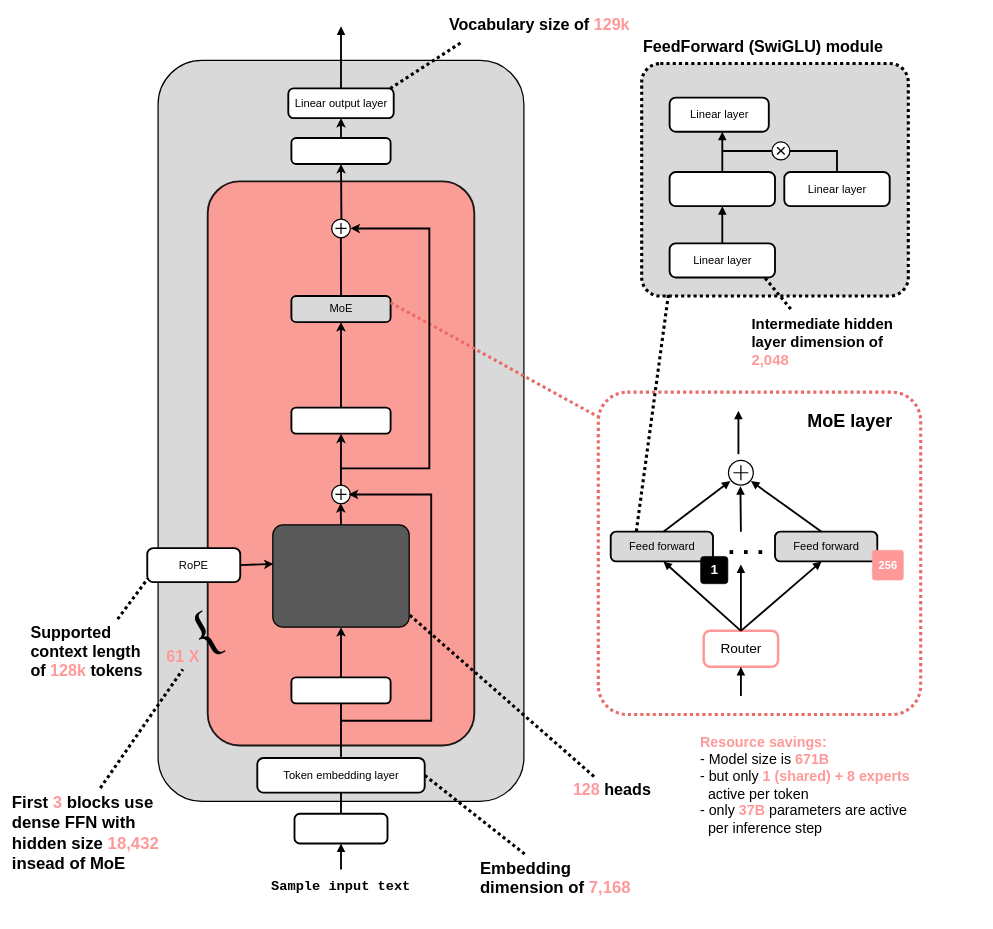
Some shapes in this 993 by 929 pixel diagram are drawn without their labels. The centre of each missing label's shape, as x and y in pixels:
"Final RMSNorm" goes at point 340,151.
"Multi-head Latent Attention ( MLA )" goes at point 341,575.
"RMSNorm 1" goes at point 340,690.
"RMSNorm 2" goes at point 340,420.
"SiLU activation" goes at point 722,189.
"Tokenized text" goes at point 340,828.
